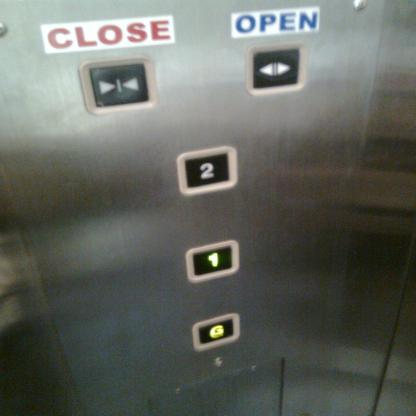1: (184, 238, 241, 284)
2: (175, 144, 239, 196)
G: (188, 312, 240, 351)
close: (78, 55, 164, 117)
open: (244, 40, 310, 98)
